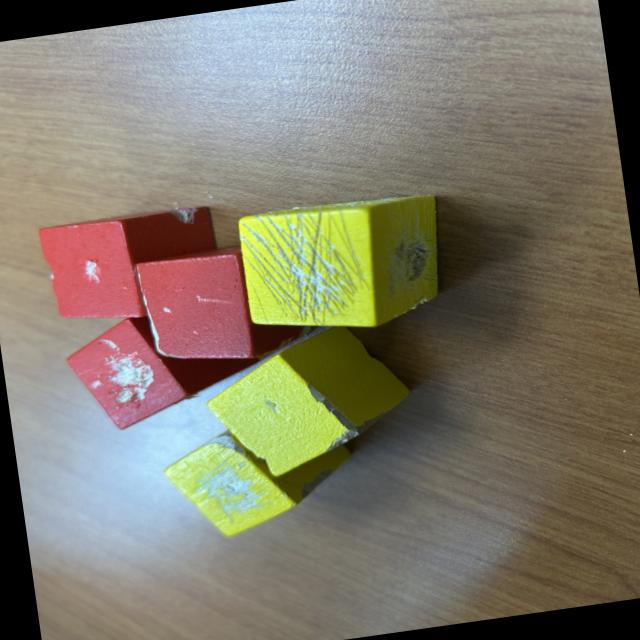broken: (199, 316, 423, 488), (234, 186, 453, 344), (60, 300, 268, 437), (158, 411, 361, 545), (134, 234, 324, 374), (36, 202, 227, 331)
